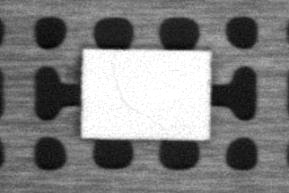DIE_CRACK: (111, 64, 165, 129)
